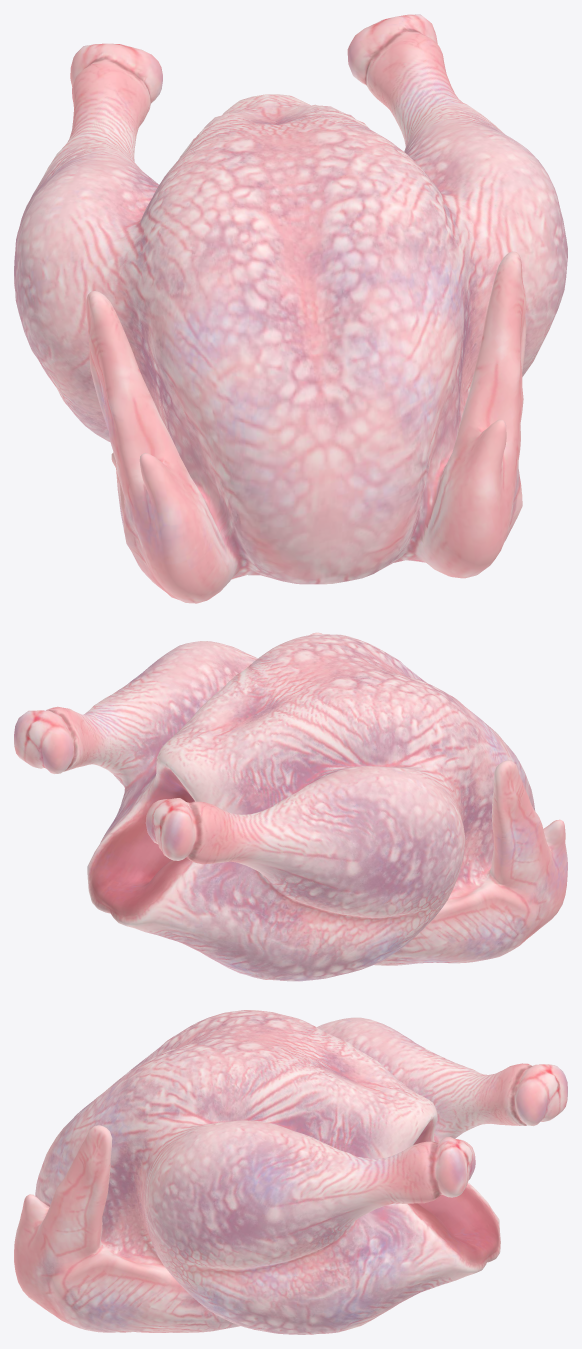
The model's file is pollo.glb.
3 renders of one model, top to bottom at view 1: azimuth 30°, elevation 25°; view 2: azimuth 150°, elevation 25°; view 3: azimuth 270°, elevation 25°, orthographic. The views are drawn at different scales.
Visible parts, largest first — view 1: dinde_Low:ZBrush_defualt_group; view 2: dinde_Low:ZBrush_defualt_group; view 3: dinde_Low:ZBrush_defualt_group.
Part boxes in pixels (x1,y1,x2,y2): dinde_Low:ZBrush_defualt_group: [14, 14, 567, 603]; dinde_Low:ZBrush_defualt_group: [14, 632, 567, 981]; dinde_Low:ZBrush_defualt_group: [14, 1010, 567, 1334].
Size of the model in its own units: 1.93 by 1.39 by 2.45.
1 material, 1 textured.
